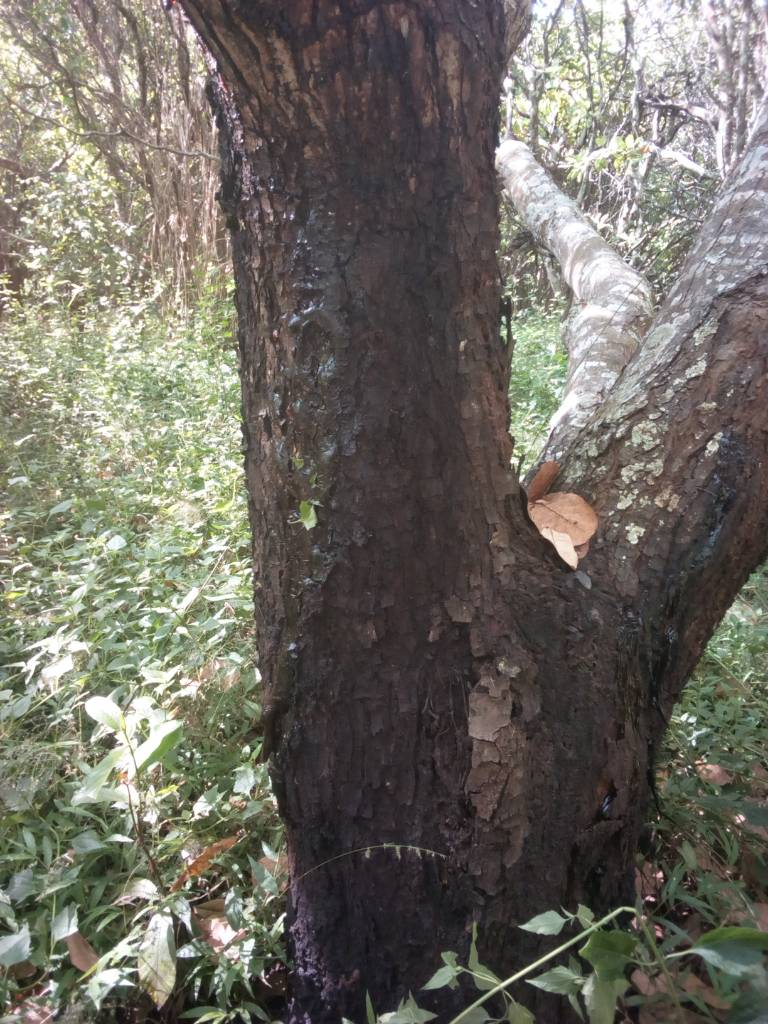Gommose: (285, 153, 472, 921), (619, 475, 752, 791)
